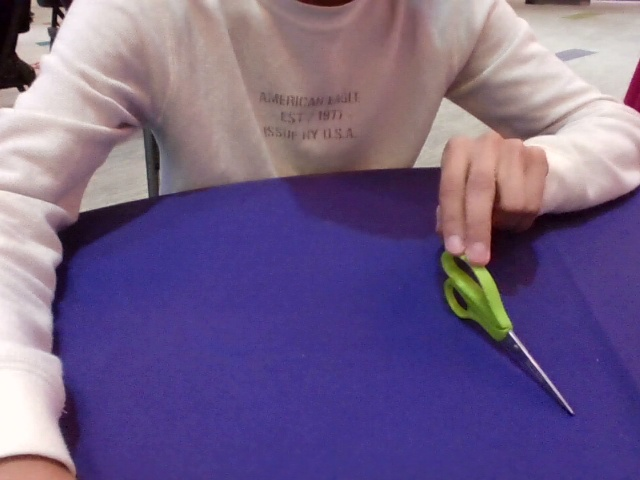tijeras: (438, 251, 573, 414)
